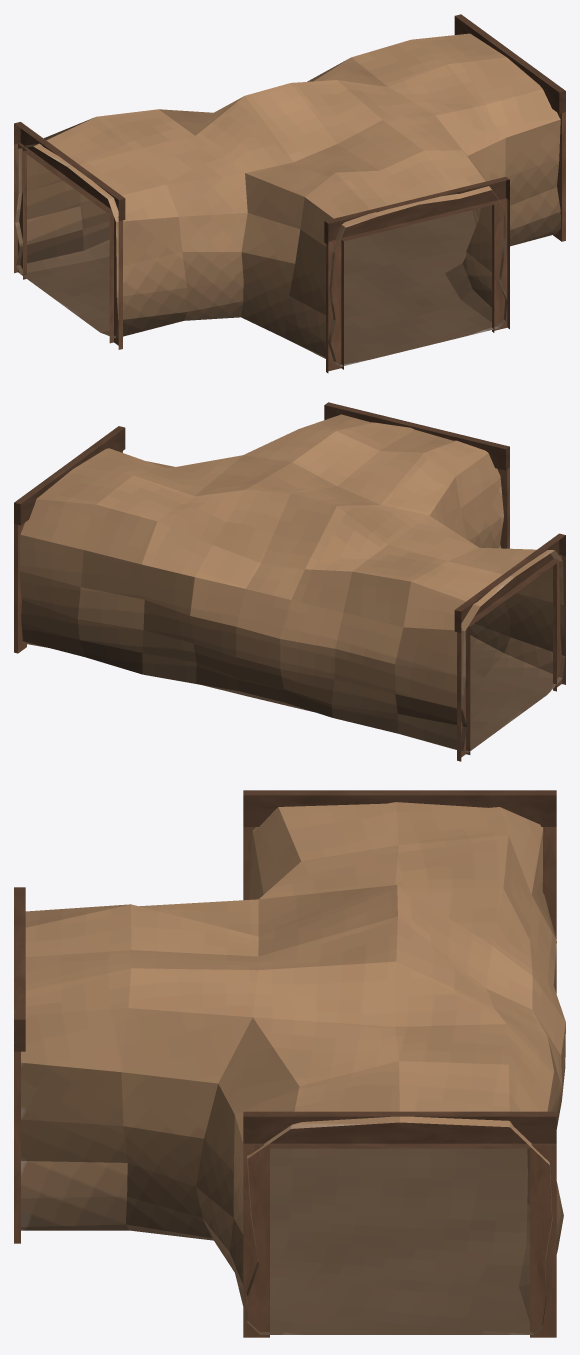
The model's file is SM_TJunction.fbx.
3 views of the same model, one above another, from view 1: azimuth 30°, elevation 25°; view 2: azimuth 150°, elevation 25°; view 3: azimuth 270°, elevation 25° (orthographic). The views are drawn at different scales.
Parts seen in each view (by area): view 1: T Junction, T Junction.002, T Junction.003, Support -y, Support -x, Support x; view 2: T Junction, T Junction.002, Support -x, T Junction.003, Support x, Support -y; view 3: T Junction.002, T Junction, T Junction.003, Support x, Support -x, Support -y.
Part boxes in pixels (bbox=[...]): T Junction: bbox=[15, 59, 560, 365]; T Junction.002: bbox=[33, 33, 542, 227]; T Junction.003: bbox=[21, 210, 498, 366]; Support -y: bbox=[324, 176, 509, 373]; Support -x: bbox=[14, 122, 125, 349]; Support x: bbox=[454, 14, 565, 241]; T Junction: bbox=[19, 453, 565, 752]; T Junction.002: bbox=[37, 414, 554, 606]; Support -x: bbox=[454, 533, 565, 761]; T Junction.003: bbox=[465, 669, 546, 752]; Support x: bbox=[14, 426, 125, 653]; Support -y: bbox=[324, 402, 509, 548]; T Junction.002: bbox=[25, 802, 509, 1128]; T Junction: bbox=[21, 807, 565, 1334]; T Junction.003: bbox=[260, 1148, 533, 1334]; Support x: bbox=[243, 1111, 556, 1337]; Support -x: bbox=[243, 790, 556, 993]; Support -y: bbox=[14, 887, 25, 1243].
Bounding box in the file's own units: 1000 × 373 × 715.
